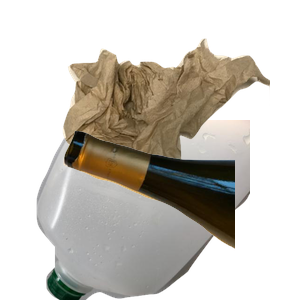glass: (60, 128, 300, 300)
metal: (60, 82, 300, 262)
plastic: (34, 120, 274, 300)
trash: (60, 36, 300, 198)
